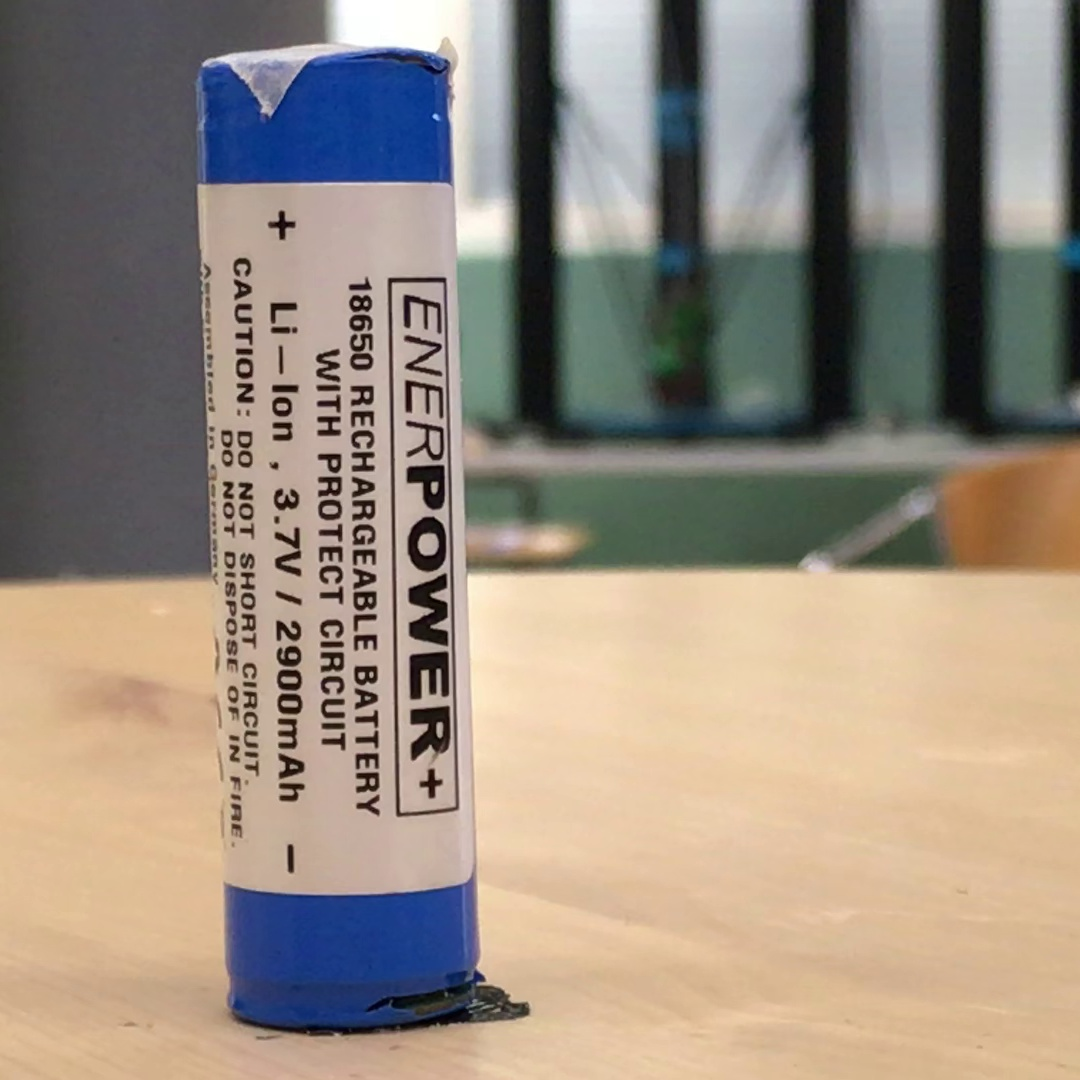keyword: (264, 478, 312, 586)
